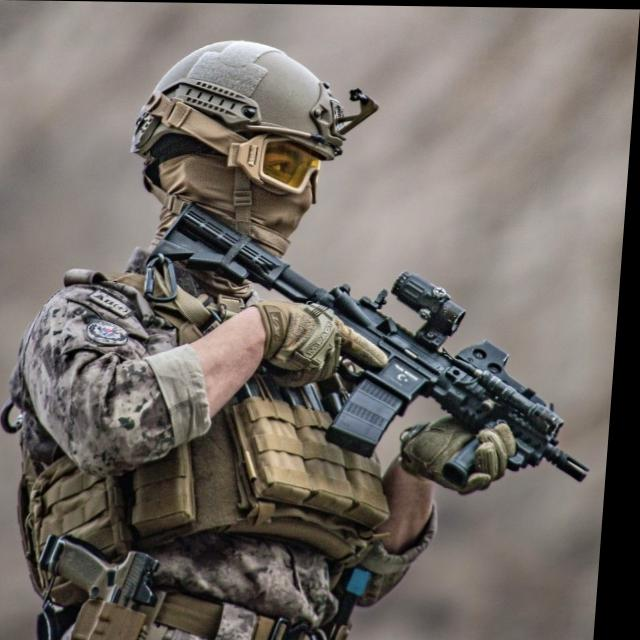poh_personel: (0, 39, 546, 640)
